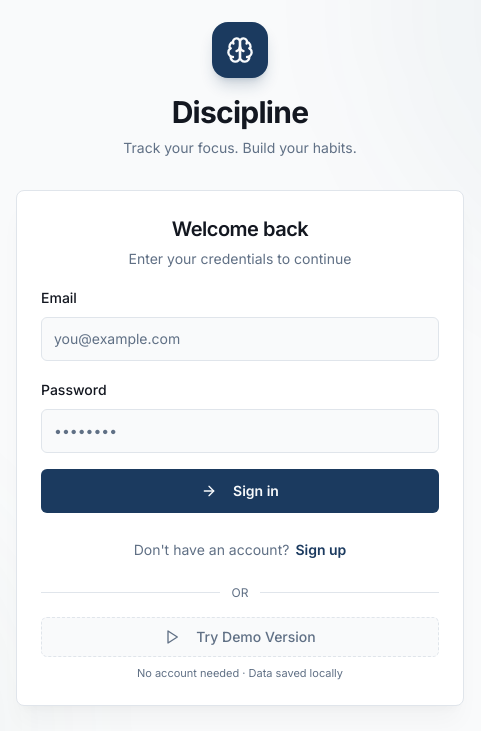
Scenario: Registration captcha › always shows the widget and sends its token
Later steps or results of the test are not shown.
Click the button "Sign up" at (321, 550), box 295,540 -> 346,560
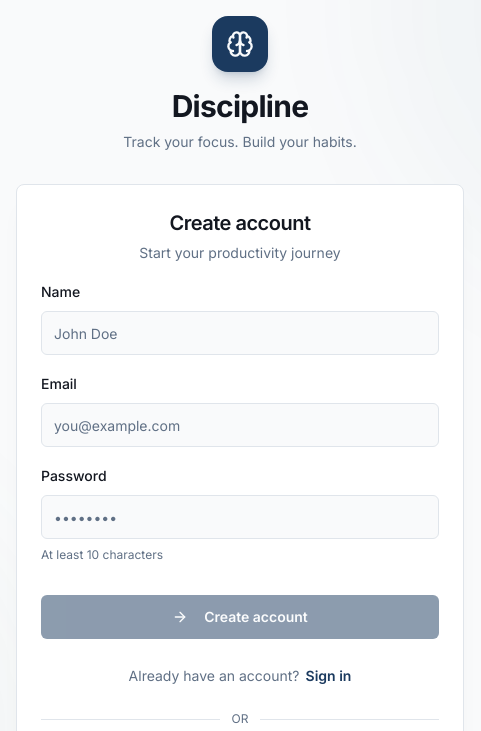
Type "Ann" into the field labelled "Name" at (240, 333), box 41,311 -> 439,355
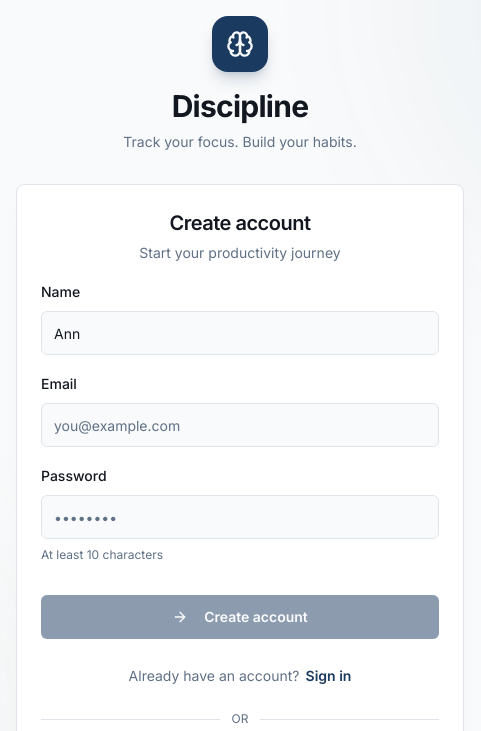
Type "ann@example.com" into the field labelled "Email" at (240, 425), box 41,403 -> 439,447
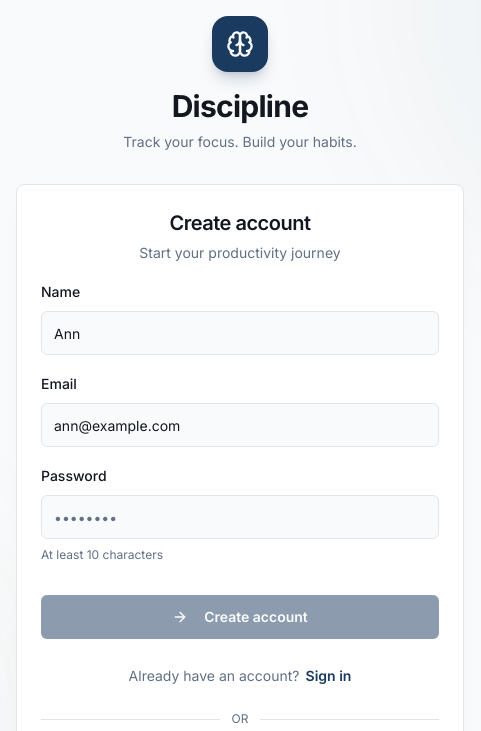
Type "long-enough-pw" into the password field labelled "Password" at (240, 517), box 41,495 -> 439,539
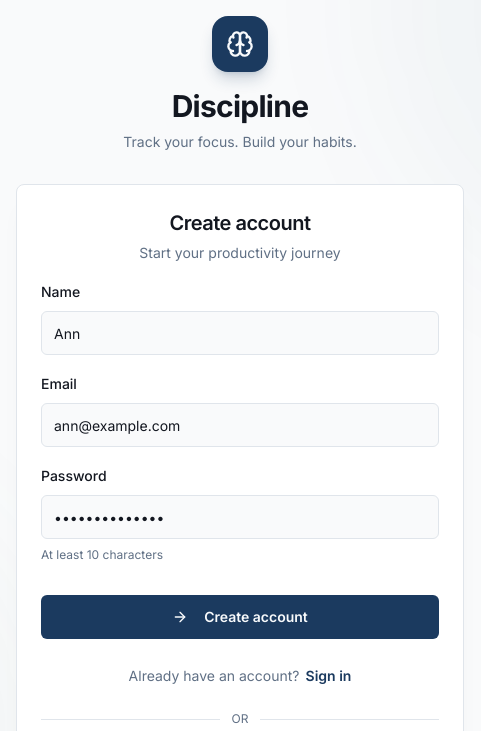
Expected: the button "Create account" is enabled, 41,595 -> 439,639
